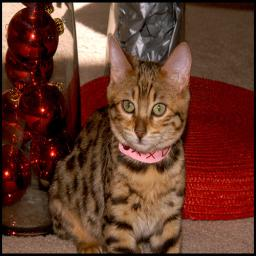catnose: (134, 127, 146, 142)
